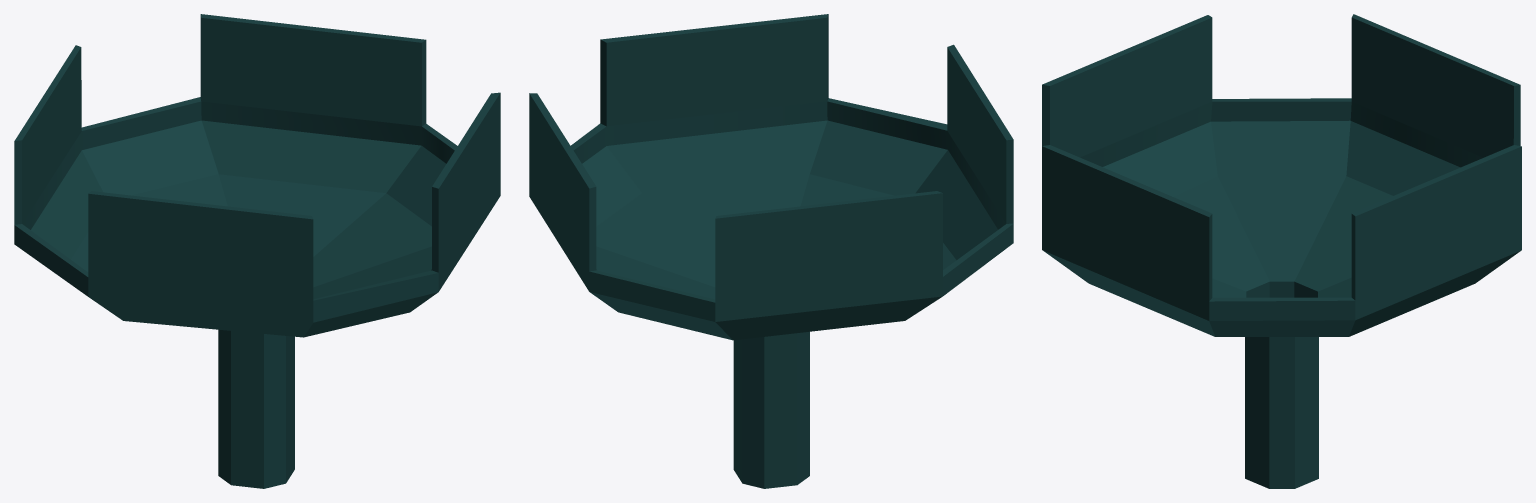
Rendered from OutsideControlRoom.fbx.
3 renders of one model, left to right at view 1: azimuth 30°, elevation 25°; view 2: azimuth 150°, elevation 25°; view 3: azimuth 270°, elevation 25°, orthographic.
Parts seen in each view (by area): view 1: OutsideControlRoom; view 2: OutsideControlRoom; view 3: OutsideControlRoom.
Part boxes in pixels (bbox=[...]): OutsideControlRoom: bbox=[14, 14, 500, 488]; OutsideControlRoom: bbox=[529, 14, 1013, 488]; OutsideControlRoom: bbox=[1042, 14, 1521, 488].
Bounding box in the file's own units: 816 × 814 × 670.
